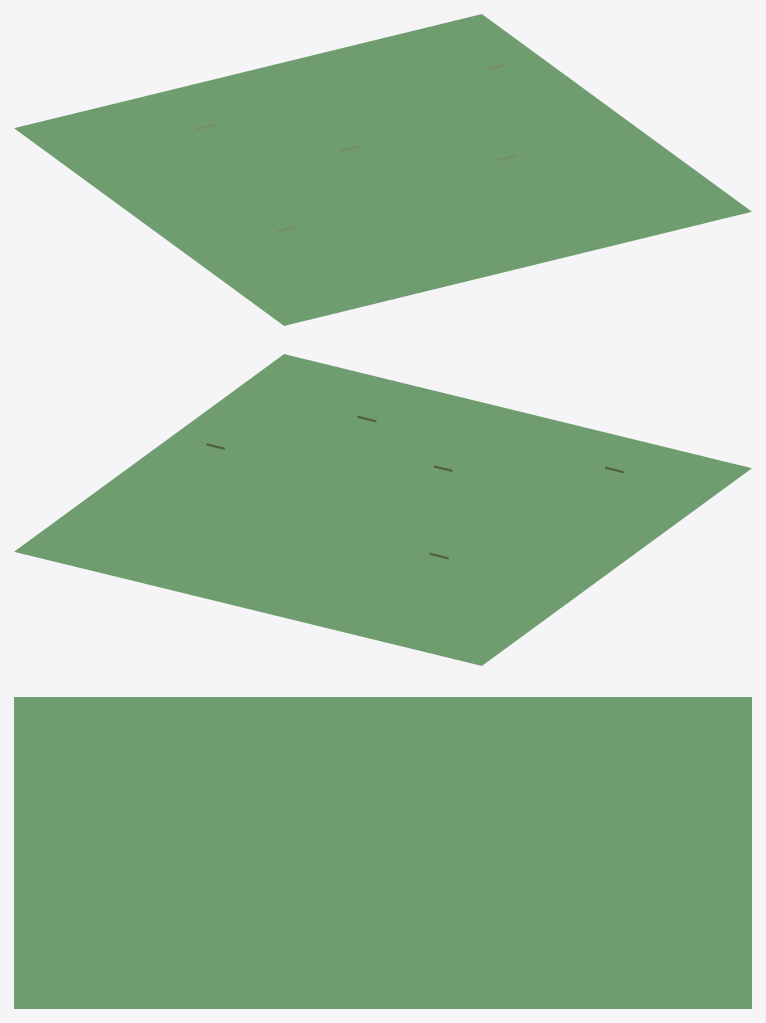
Rendered from GROUND_COASTAL_GRASS_001_LOD_GAMEPLAY.glb.
3 renders of one model, top to bottom at view 1: azimuth 30°, elevation 25°; view 2: azimuth 150°, elevation 25°; view 3: azimuth 270°, elevation 25°, orthographic. The views are drawn at different scales.
Visible parts, largest first — view 1: COASTAL_GROUND_PATCH_LOD1_EXPORT; view 2: COASTAL_GROUND_PATCH_LOD1_EXPORT; view 3: COASTAL_GROUND_PATCH_LOD1_EXPORT.
Part boxes in pixels (box(x1,y1,x2,y2)): COASTAL_GROUND_PATCH_LOD1_EXPORT: box(14, 14, 751, 325); COASTAL_GROUND_PATCH_LOD1_EXPORT: box(14, 354, 751, 665); COASTAL_GROUND_PATCH_LOD1_EXPORT: box(14, 697, 751, 1008).
Bounding box in the file's own units: 2 × 0.2048 × 2.
